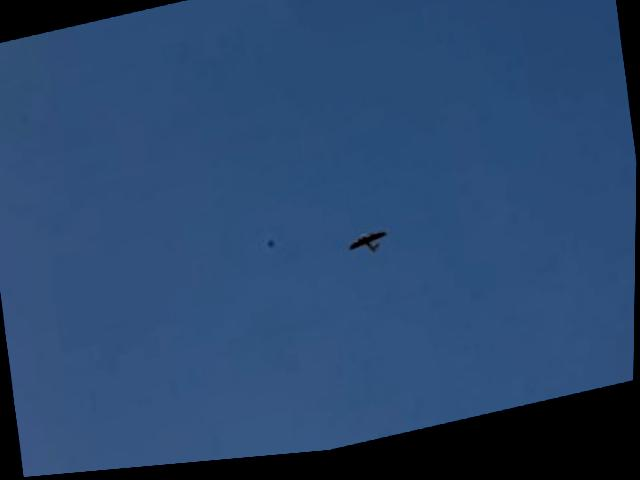uav: (348, 234, 393, 266)
